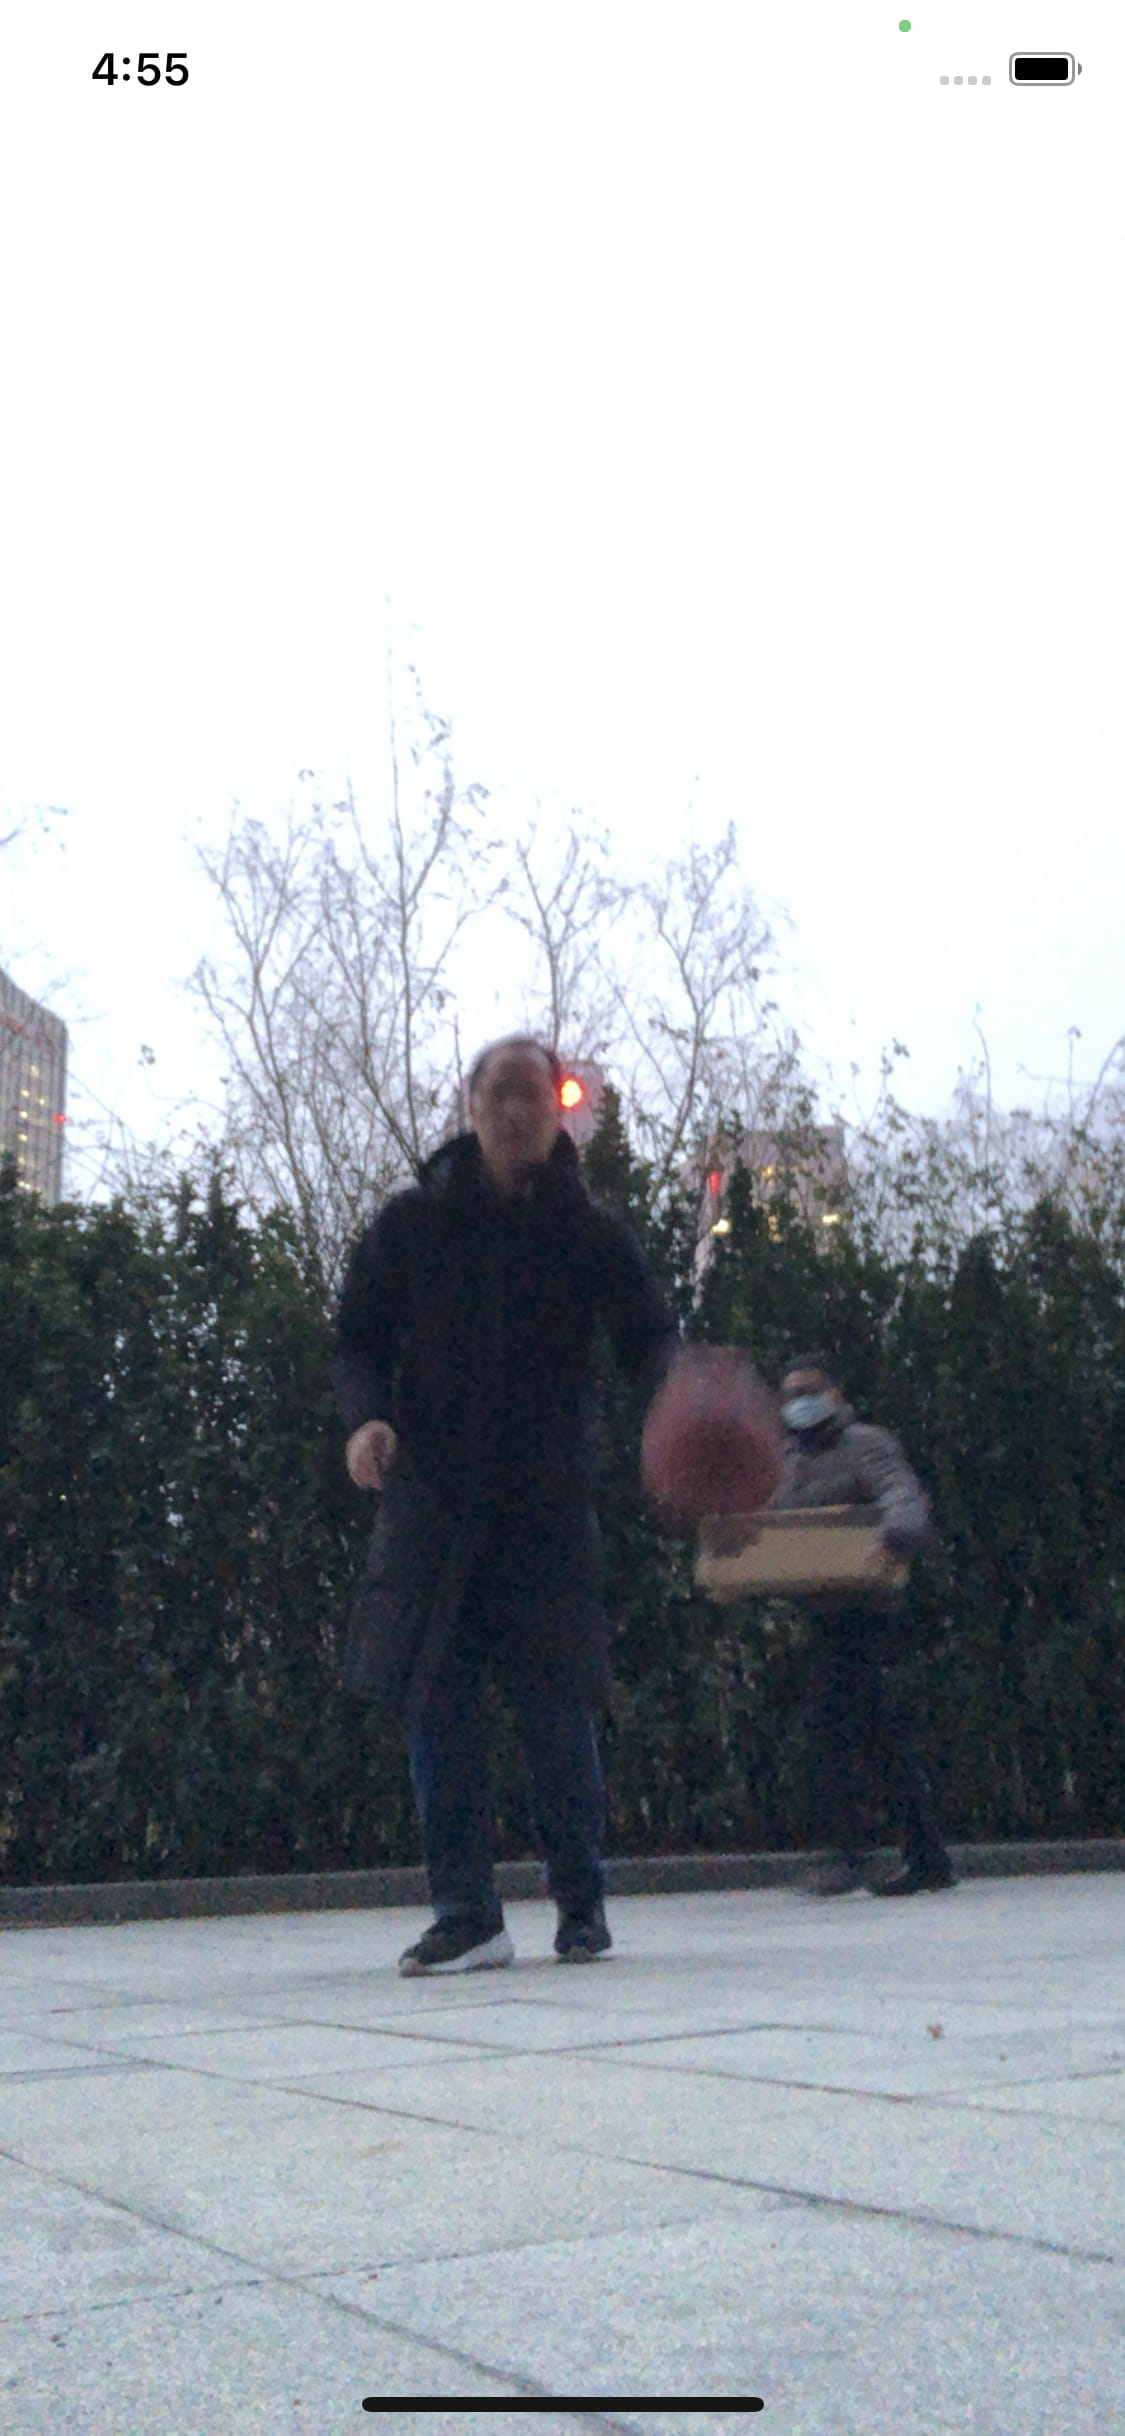ball: (629, 1381, 783, 1522)
